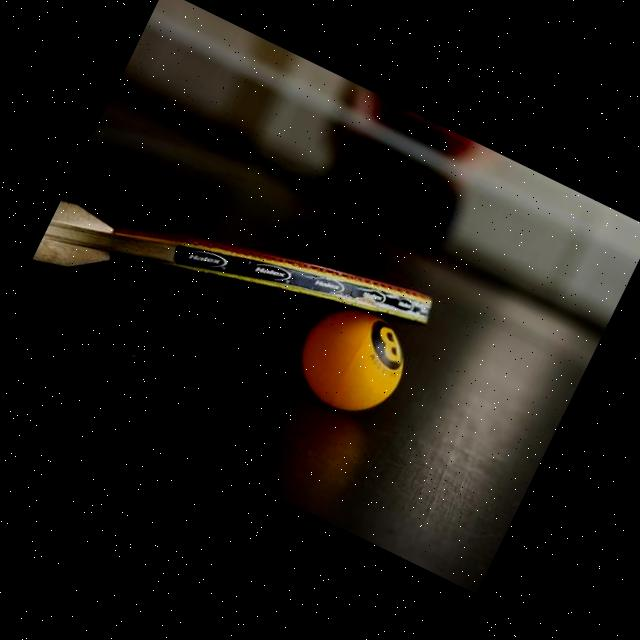ping-pong-ball: (281, 289, 423, 432)
